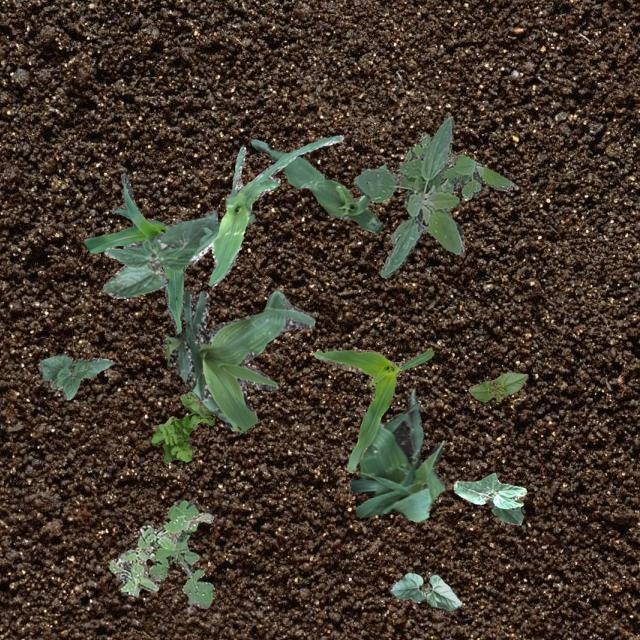crop: (82, 172, 254, 334), (188, 134, 342, 284), (162, 290, 314, 434), (312, 348, 432, 472), (348, 386, 444, 522), (250, 139, 386, 233), (100, 210, 216, 298), (452, 472, 526, 524), (38, 352, 112, 398), (388, 572, 460, 612), (468, 371, 528, 402)
weed: (352, 115, 463, 278), (109, 512, 212, 594), (402, 132, 514, 198), (148, 498, 212, 608), (150, 390, 216, 462)
